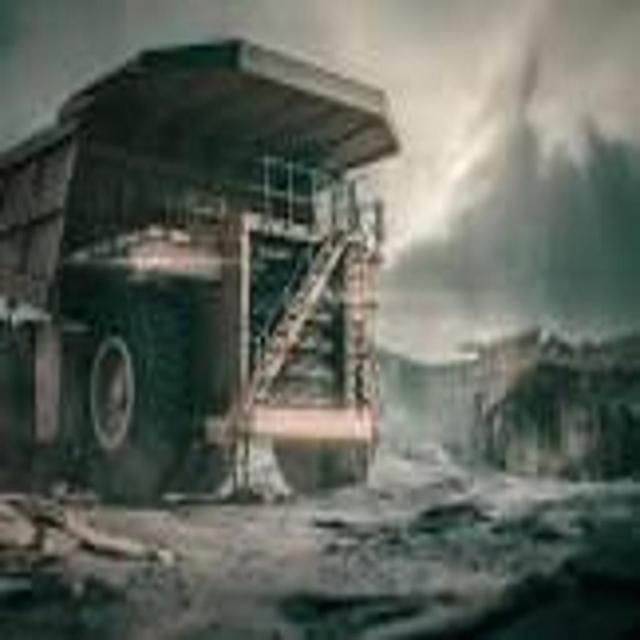dump_truck: (0, 34, 416, 565)
